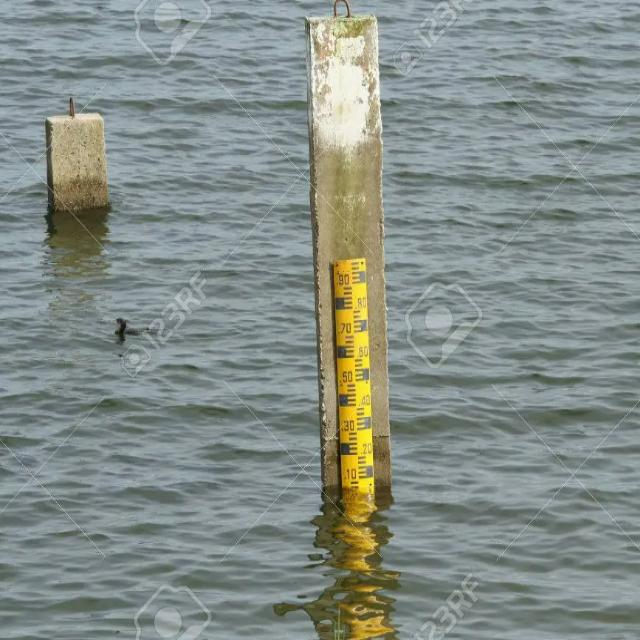ruler: (328, 250, 381, 492)
value: (338, 367, 356, 384), (352, 296, 368, 312), (336, 272, 352, 288), (340, 418, 357, 433), (337, 321, 355, 335), (356, 392, 372, 407), (343, 465, 358, 481), (354, 344, 369, 359), (357, 442, 373, 456)
